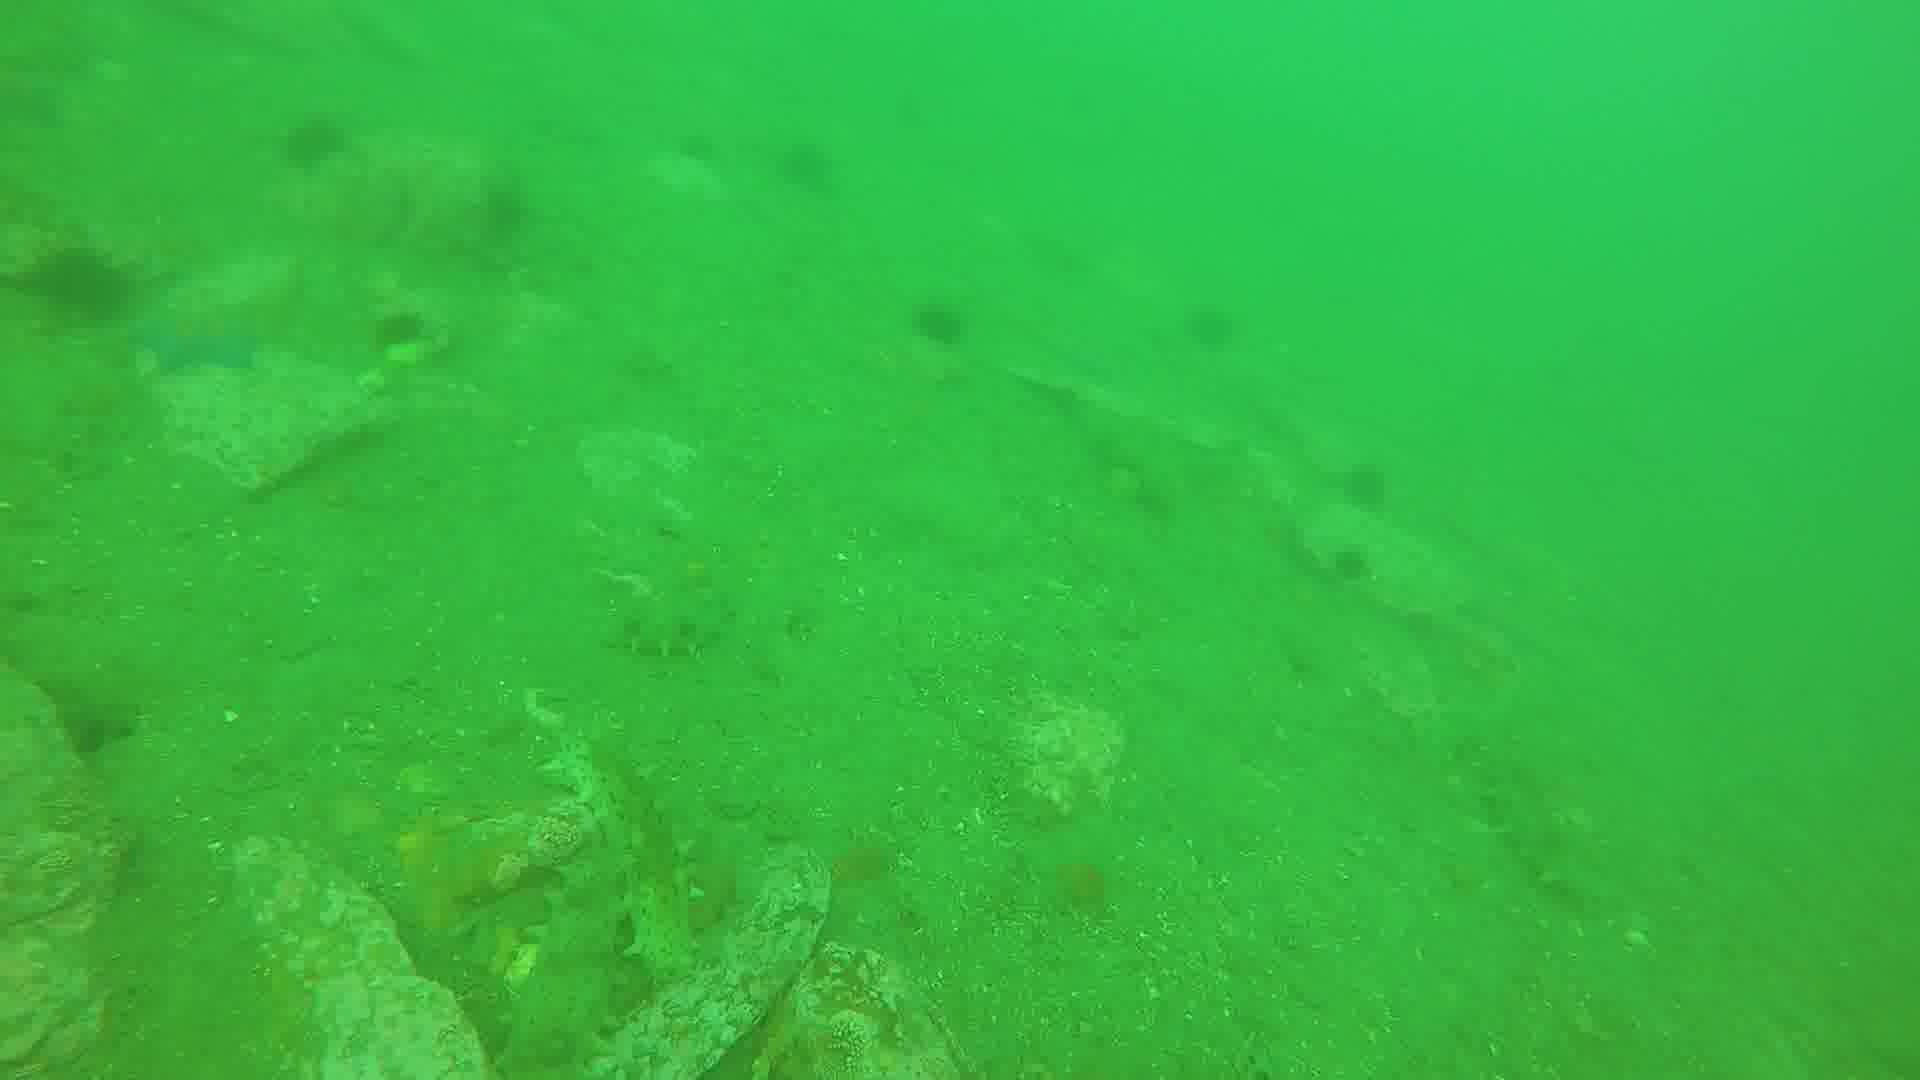echinus: (33, 243, 121, 316), (380, 305, 429, 359), (281, 116, 334, 162), (1187, 305, 1236, 348), (1337, 465, 1385, 509), (1324, 541, 1373, 582), (919, 294, 956, 345)
holothurian: (546, 729, 704, 986), (502, 862, 626, 1080), (1487, 767, 1604, 901), (597, 597, 738, 659)
starfish: (141, 307, 272, 365)
